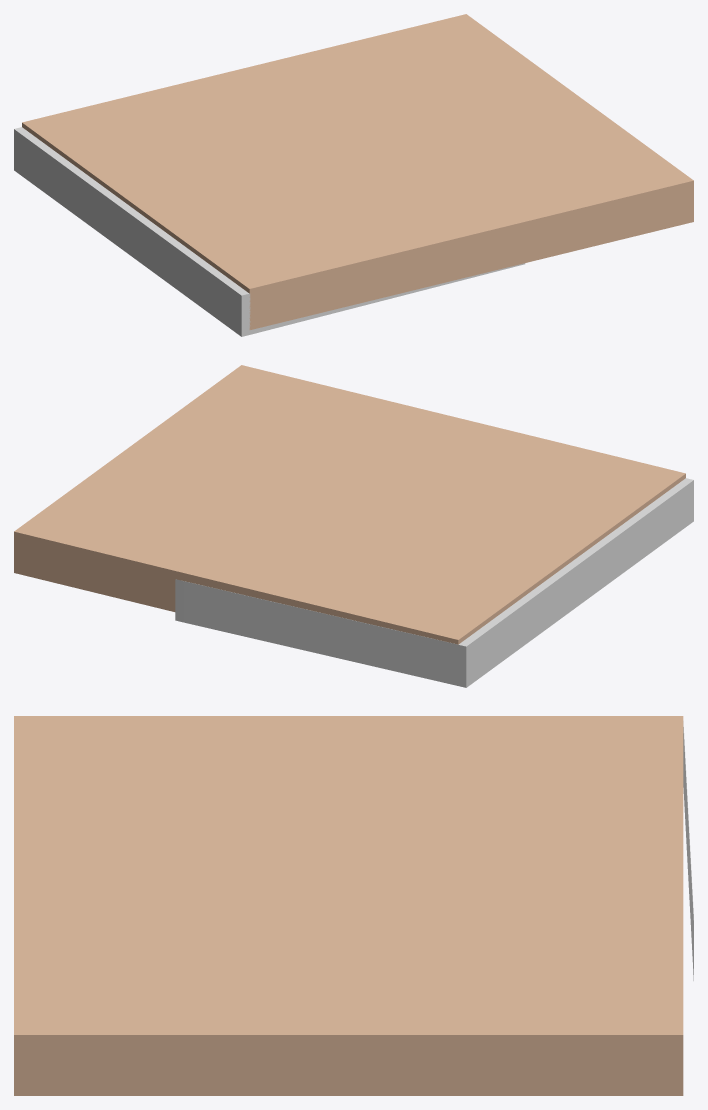
Rendered from ceilingframe.fbx.
3 renders of one model, top to bottom at view 1: azimuth 30°, elevation 25°; view 2: azimuth 150°, elevation 25°; view 3: azimuth 270°, elevation 25°, orthographic. The views are drawn at different scales.
Parts seen in each view (by area): view 1: CEILING, ceilingframe; view 2: CEILING, ceilingframe; view 3: CEILING, ceilingframe.
Boxes of the visible parts, x1,y1,x2,y2 form: CEILING: (22,14,693,329); ceilingframe: (14,127,525,336); CEILING: (14,365,685,644); ceilingframe: (175,478,693,687); CEILING: (14,716,683,1095); ceilingframe: (683,721,693,980).
Size of the model in its own units: 6.74 by 0.6548 by 5.97.
